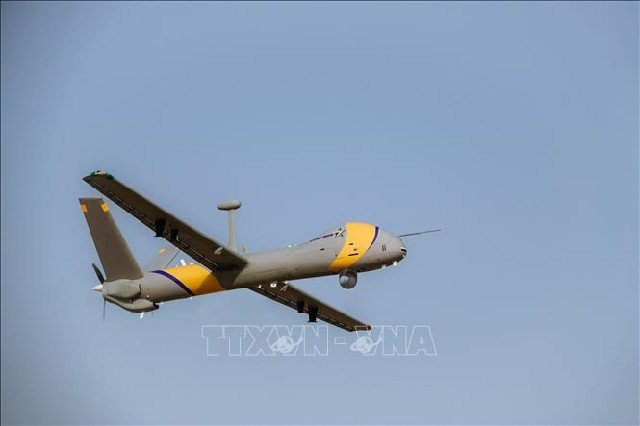maybay_khongnguoilai: (76, 171, 406, 332)
